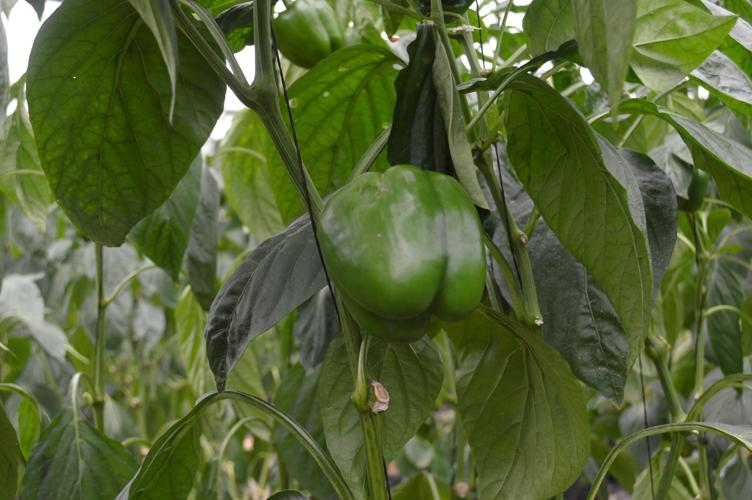BellPepper: (306, 159, 505, 341), (272, 6, 348, 66)
